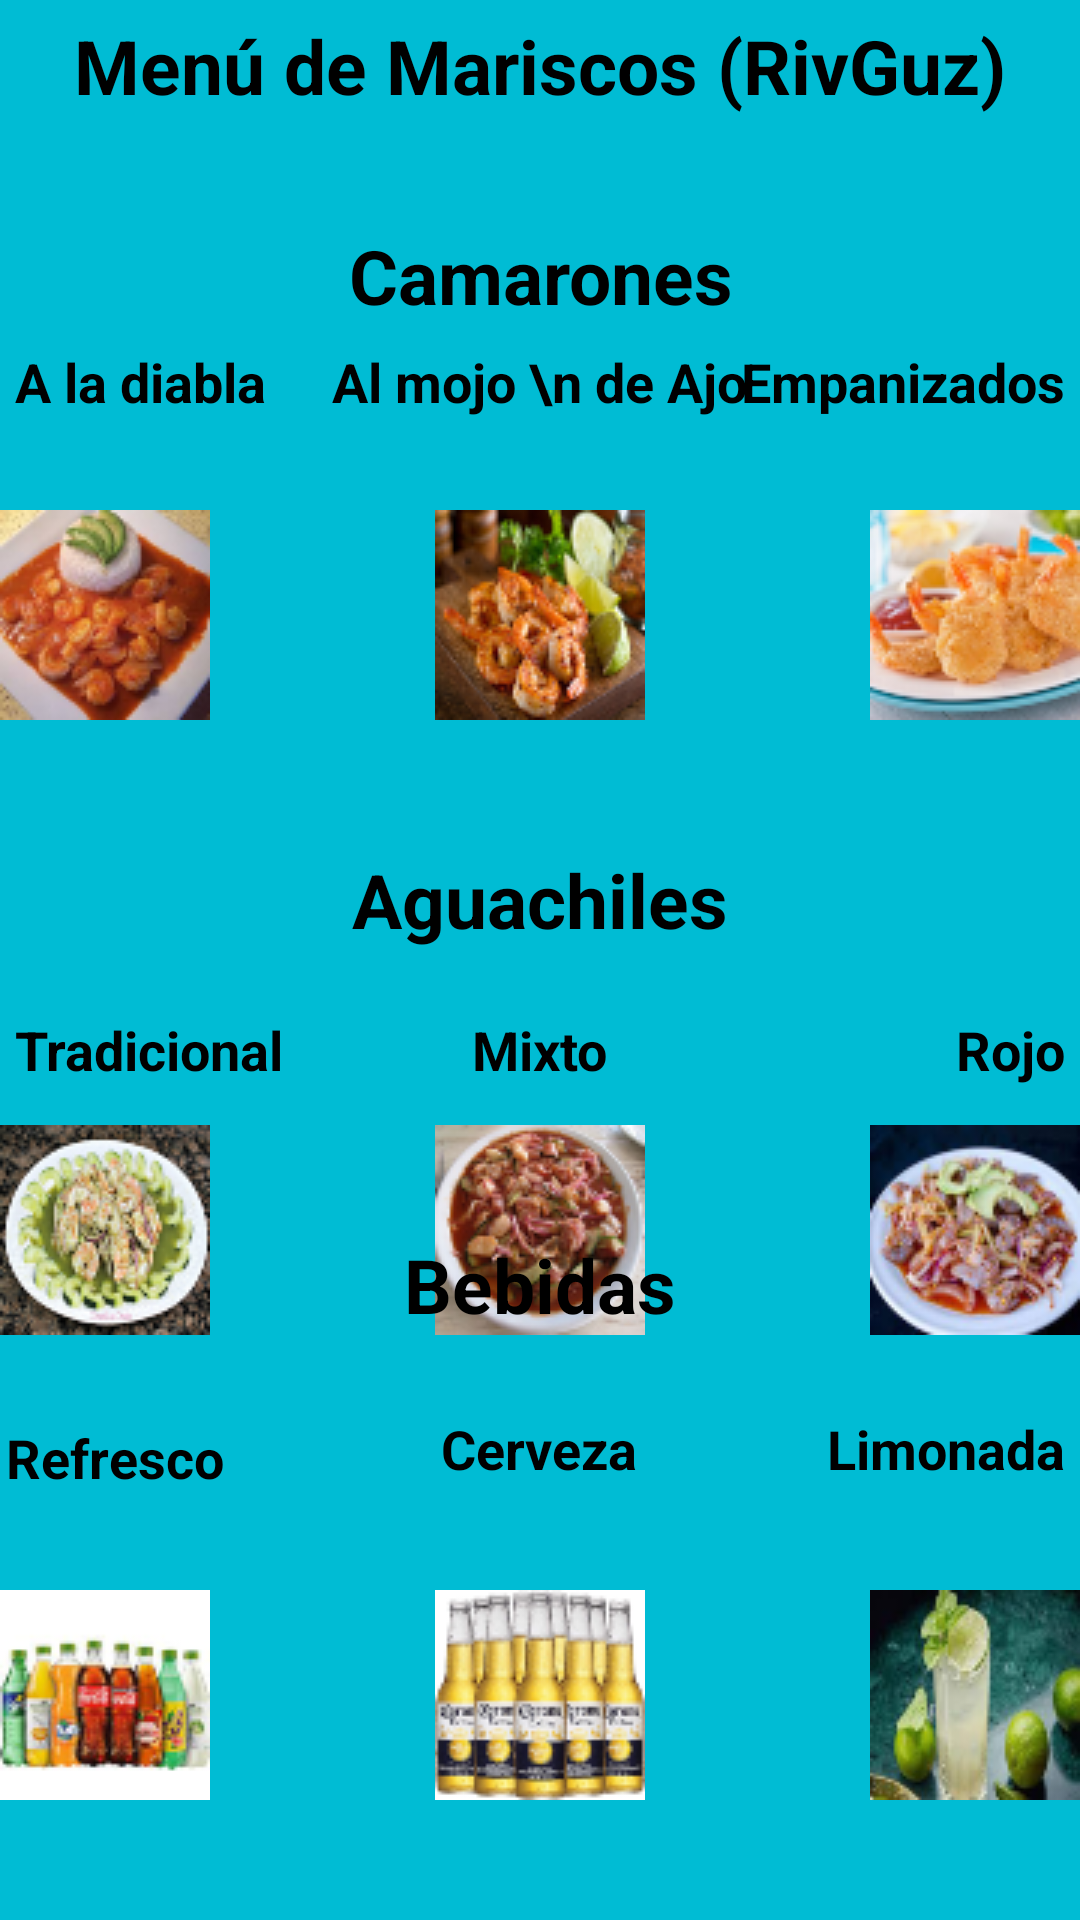

Where to tap for icons on this 1080*1920 app screen, as point (x, y):
camarones diabla: point (105, 615)
camarones mojo: point (540, 615)
